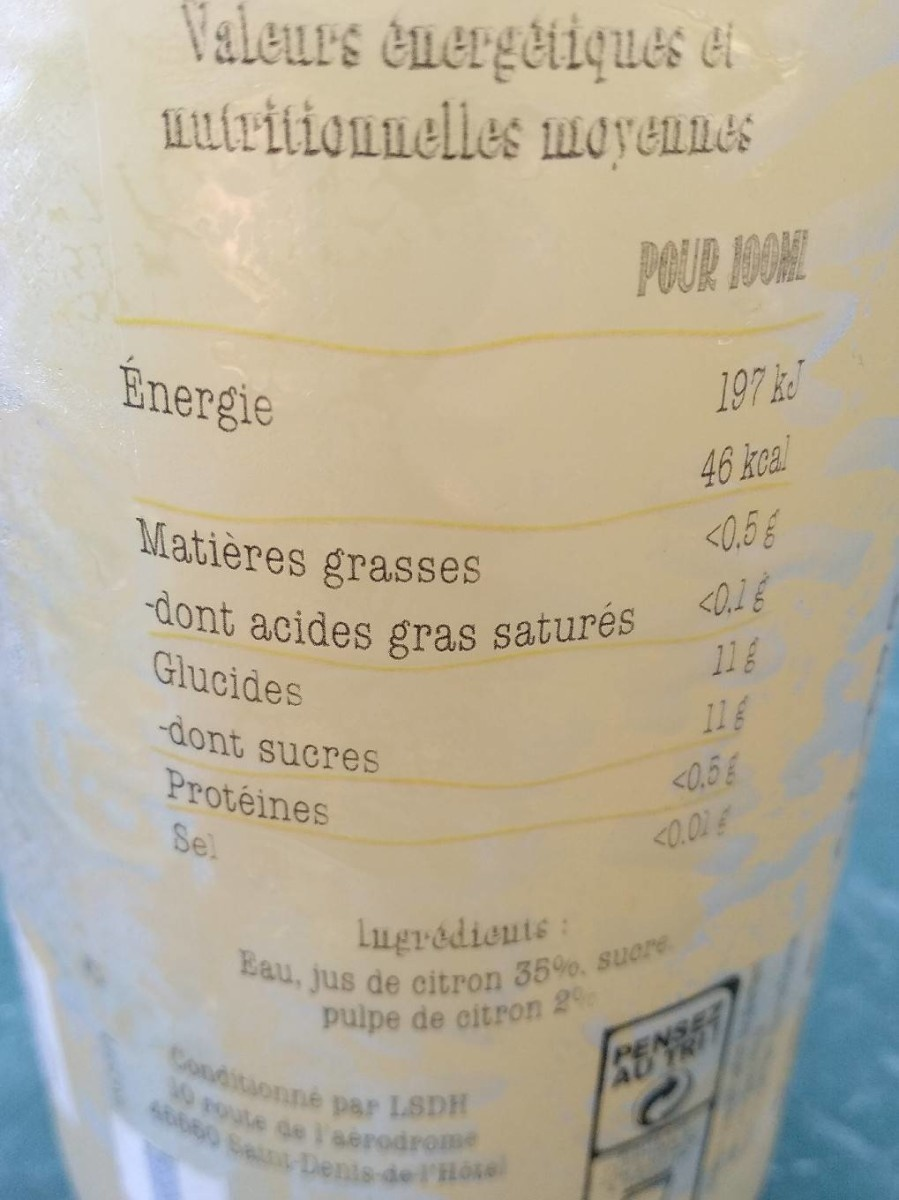table: (110, 308, 824, 877)
